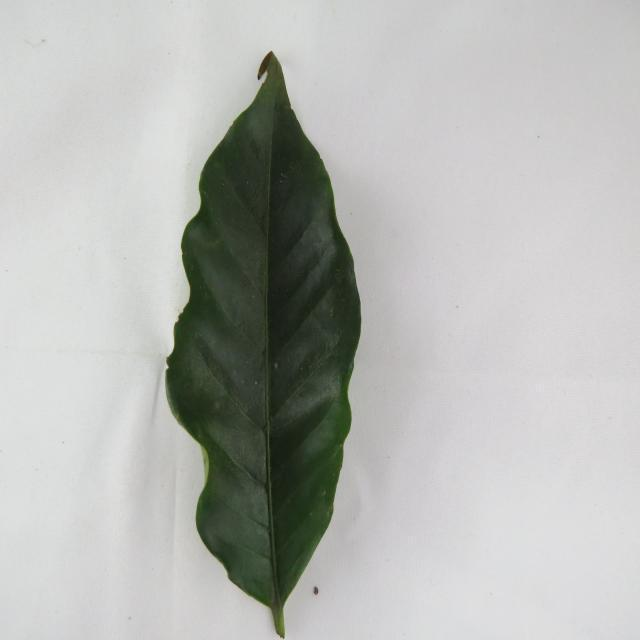DeficienciaNutricional-Calcio: (166, 52, 361, 637)
